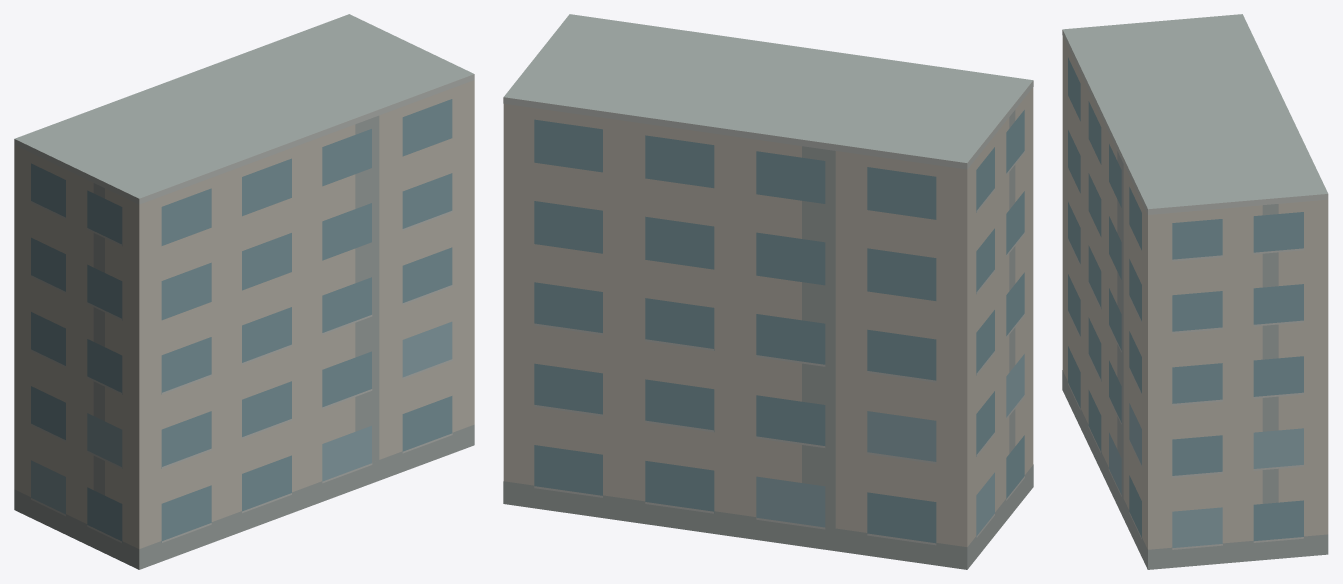
File: residential-b2e54390-e6e4-41bb-937d-b7b0e5206d46.glb
3 renders of one model, left to right at view 1: azimuth 30°, elevation 25°; view 2: azimuth 150°, elevation 25°; view 3: azimuth 270°, elevation 25°, orthographic. The views are drawn at different scales.
Parts seen in each view (by area): view 1: residential-b2e54390-e6e4-41bb-937d-b7b0e5206d46.tmp; view 2: residential-b2e54390-e6e4-41bb-937d-b7b0e5206d46.tmp; view 3: residential-b2e54390-e6e4-41bb-937d-b7b0e5206d46.tmp.
Boxes of the visible parts, x1,y1,x2,y2 form: residential-b2e54390-e6e4-41bb-937d-b7b0e5206d46.tmp: [14, 14, 474, 569]; residential-b2e54390-e6e4-41bb-937d-b7b0e5206d46.tmp: [503, 14, 1033, 569]; residential-b2e54390-e6e4-41bb-937d-b7b0e5206d46.tmp: [1062, 14, 1328, 569].
Bounding box in the file's own units: 17.71 × 15.25 × 10.2.
